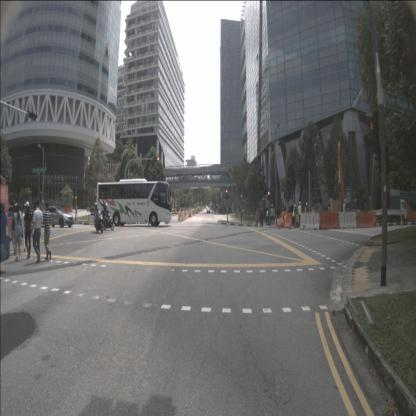barrier: (299, 211, 320, 230), (320, 211, 339, 229), (339, 212, 357, 228), (356, 211, 372, 229), (282, 212, 293, 228), (370, 211, 376, 227), (181, 211, 185, 221)
cone: (276, 219, 280, 228), (400, 215, 403, 227), (279, 218, 282, 228), (289, 218, 291, 230), (178, 214, 180, 221)
